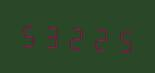five: (18, 16, 40, 51), (110, 21, 132, 55)
three: (41, 18, 63, 52)
two: (64, 19, 86, 53), (87, 20, 109, 54)
